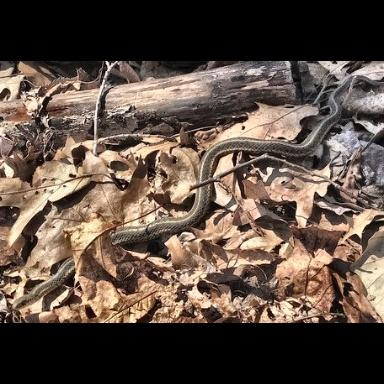snake: (11, 75, 382, 313)
